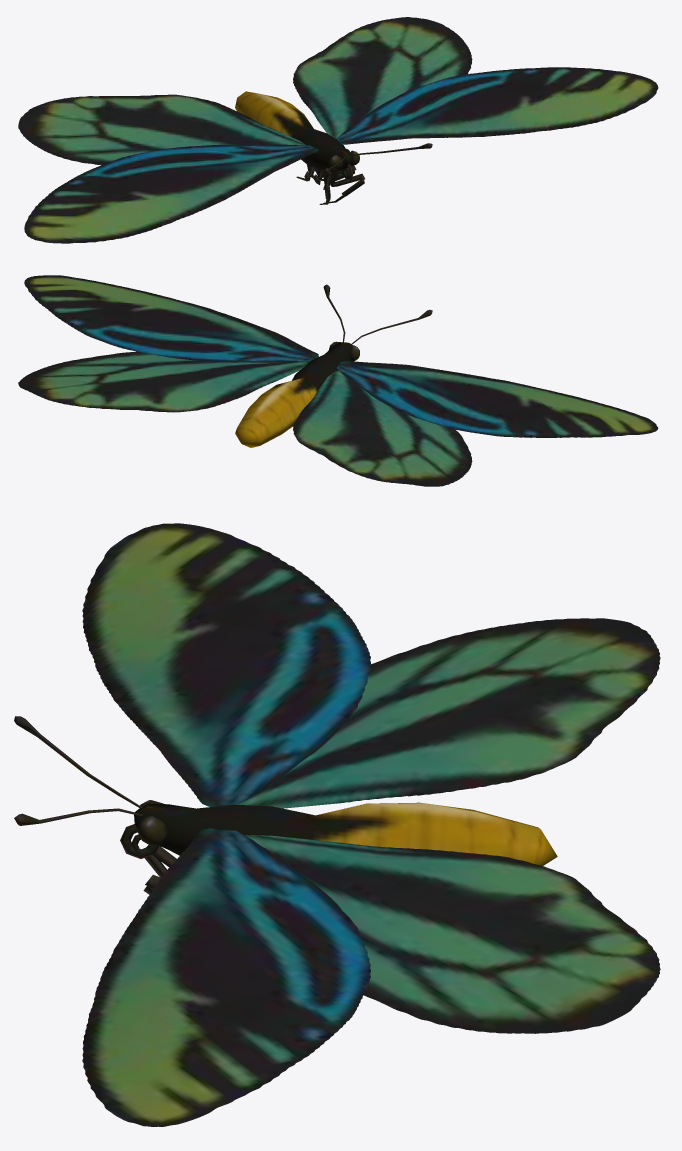
File: queen-alexandras-birdwing.glb
The picture shows the model from 3 angles, top to bottom: view 1: azimuth 30°, elevation 25°; view 2: azimuth 150°, elevation 25°; view 3: azimuth 270°, elevation 25°; orthographic projection. The views are drawn at different scales.
Bounding box in the file's own units: 10.31 × 1.36 × 4.6.
Materials: 1 (1 with a texture image).
